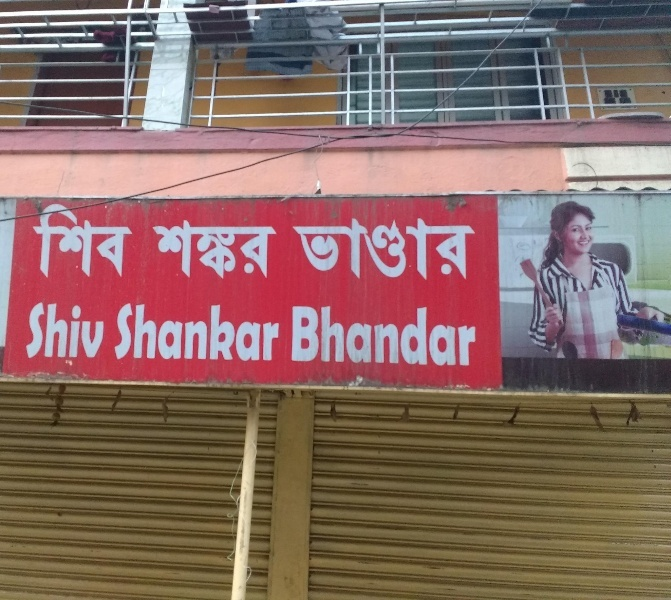text: (33, 203, 48, 280), (49, 203, 64, 280), (65, 203, 80, 280), (81, 203, 96, 280), (97, 203, 112, 280), (113, 203, 128, 280), (289, 218, 304, 283), (305, 218, 320, 283), (321, 218, 336, 283), (337, 218, 352, 283), (353, 218, 368, 283), (369, 218, 384, 283), (385, 218, 400, 283), (401, 218, 416, 283), (417, 218, 432, 283), (433, 218, 448, 283), (449, 218, 464, 283), (161, 219, 176, 282), (177, 219, 192, 282), (193, 219, 208, 282), (209, 219, 224, 282), (225, 219, 240, 282), (241, 219, 256, 282), (257, 219, 272, 282), (305, 303, 320, 366), (321, 303, 336, 366), (337, 303, 352, 366), (353, 303, 368, 366), (369, 303, 384, 366), (385, 303, 400, 366), (401, 303, 416, 366), (417, 303, 432, 366), (433, 303, 448, 366), (449, 303, 464, 366), (129, 301, 144, 363), (145, 301, 160, 363), (161, 301, 176, 363), (177, 301, 192, 363), (193, 301, 208, 363), (209, 301, 224, 363), (225, 301, 240, 363), (241, 301, 256, 363), (257, 301, 272, 363), (465, 218, 479, 283), (33, 302, 48, 362), (49, 302, 64, 362), (65, 302, 80, 362), (81, 302, 96, 362), (465, 303, 479, 366), (273, 301, 286, 363), (292, 303, 304, 366), (150, 219, 160, 282), (118, 301, 128, 363), (97, 302, 107, 362), (129, 203, 135, 280), (273, 219, 279, 282), (31, 203, 32, 280), (31, 302, 32, 362)
